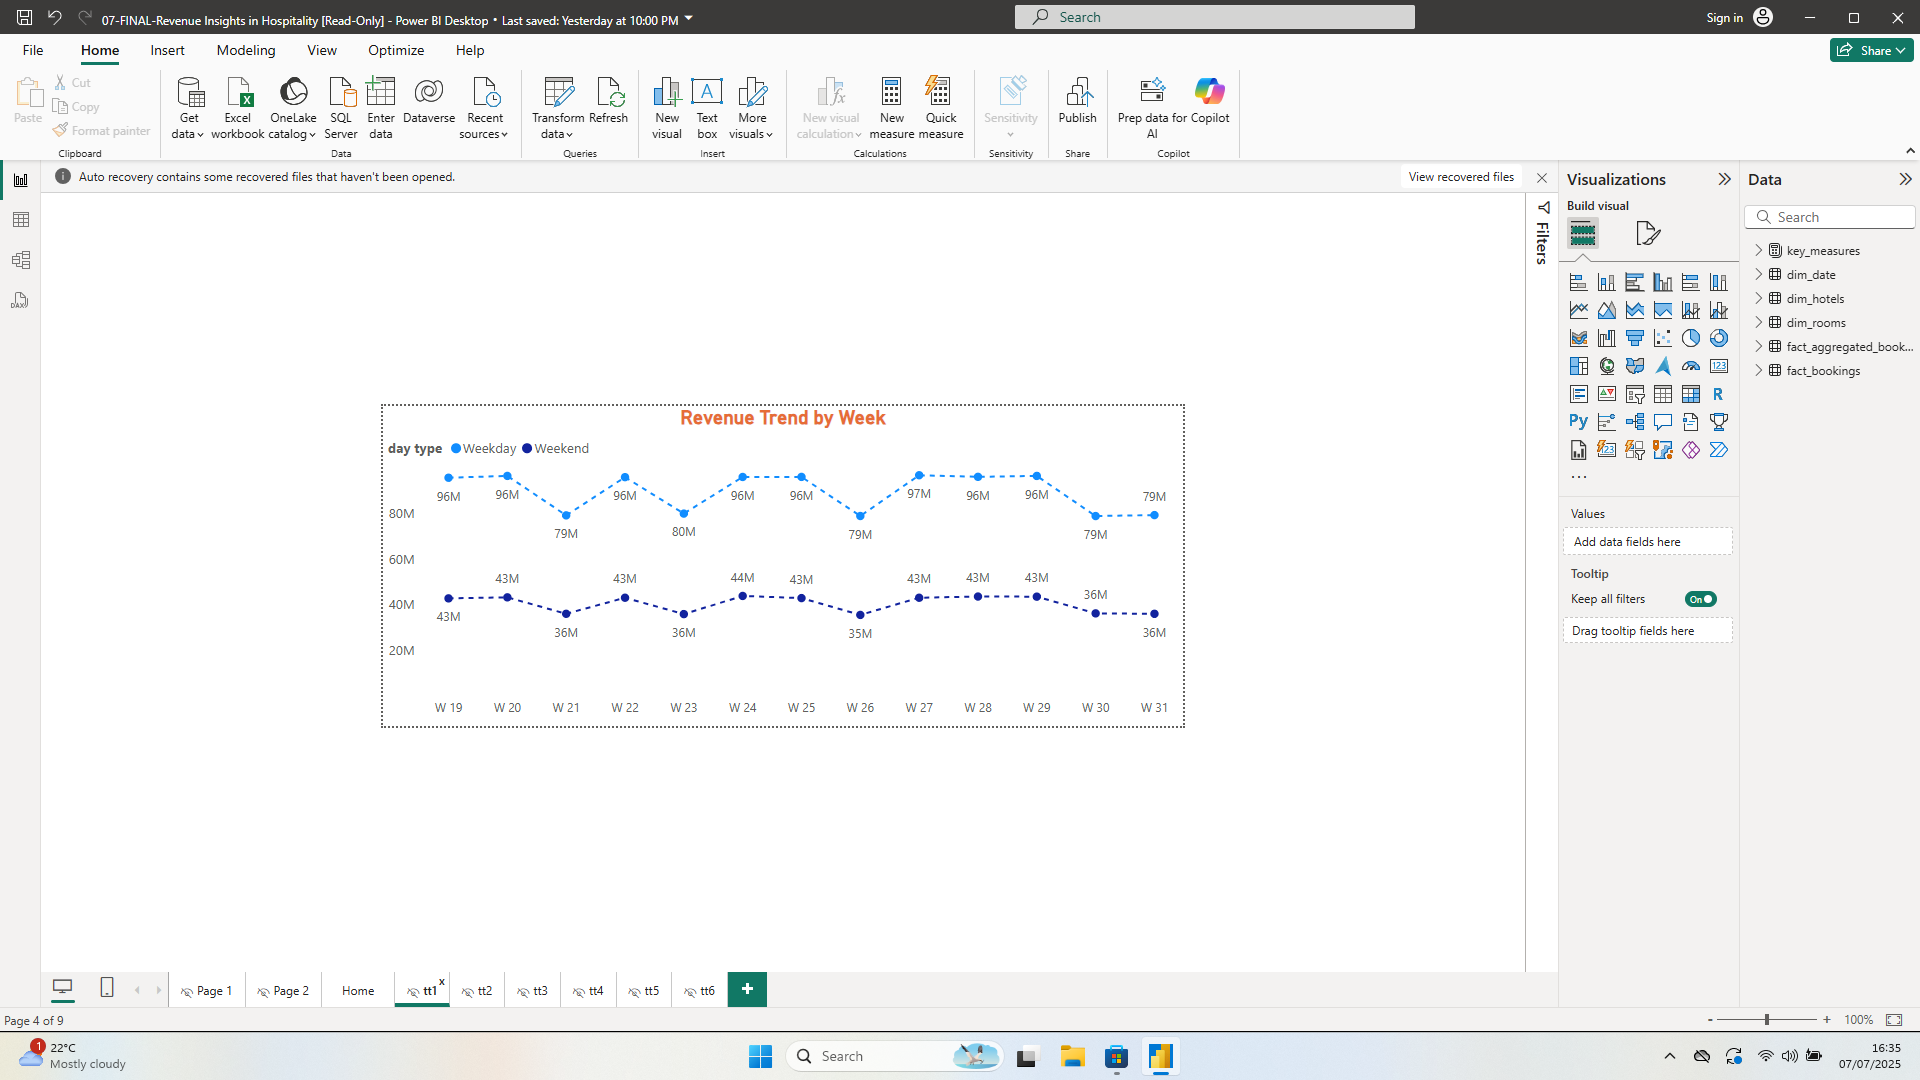

The dashboard page shown, as its layout file describes it:
{"tool":"powerbi","page":{"name":"tt1","canvas":[800,320],"ordinal":3},"visuals":[{"type":"lineChart","title":"Revenue Trend by Week","fields":{"Category":["dim_date.week no"],"Y":["key_measures.Revenue"],"Series":["dim_date.day type"]},"box":[0,0,800,320],"z":0}]}

Visuals, with their boxes on the page's 800x320 design canvas (x1, y1, x2, y2). These are canvas units, not pixel positions in the 1920x1080 screenshot, which may show the page scaled, cropped or inside an application window:
"Revenue Trend by Week" lineChart: [x1=0, y1=0, x2=800, y2=320]
